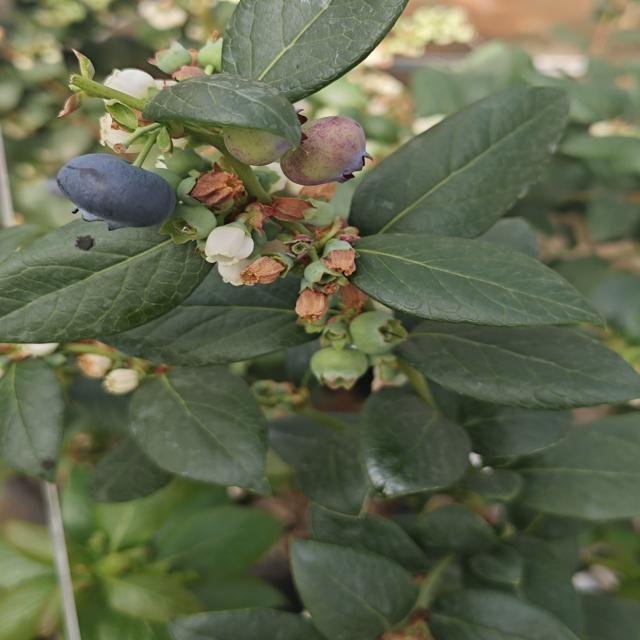ripe: (53, 151, 178, 233)
